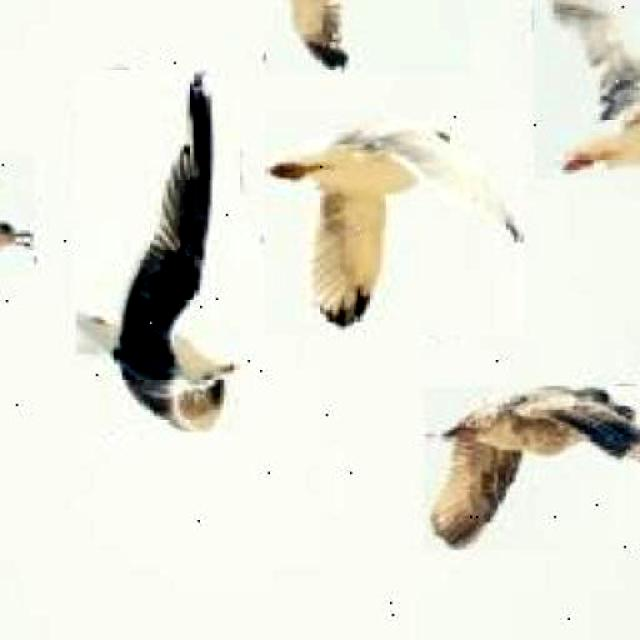airplane: (76, 70, 240, 432), (264, 112, 524, 334), (425, 386, 640, 550), (534, 0, 640, 179), (266, 0, 470, 74)
